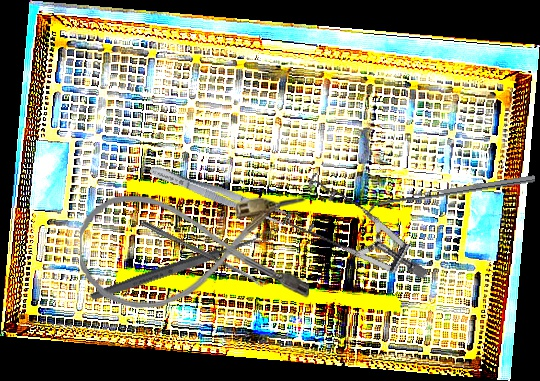Cannula: (79, 193, 309, 309)
Dressing Forceps: (147, 160, 288, 228)
Spatula Surgical: (364, 175, 537, 215)
Speculum: (267, 147, 431, 325)
Surgical Spoon: (89, 229, 275, 303), (141, 220, 265, 288)
